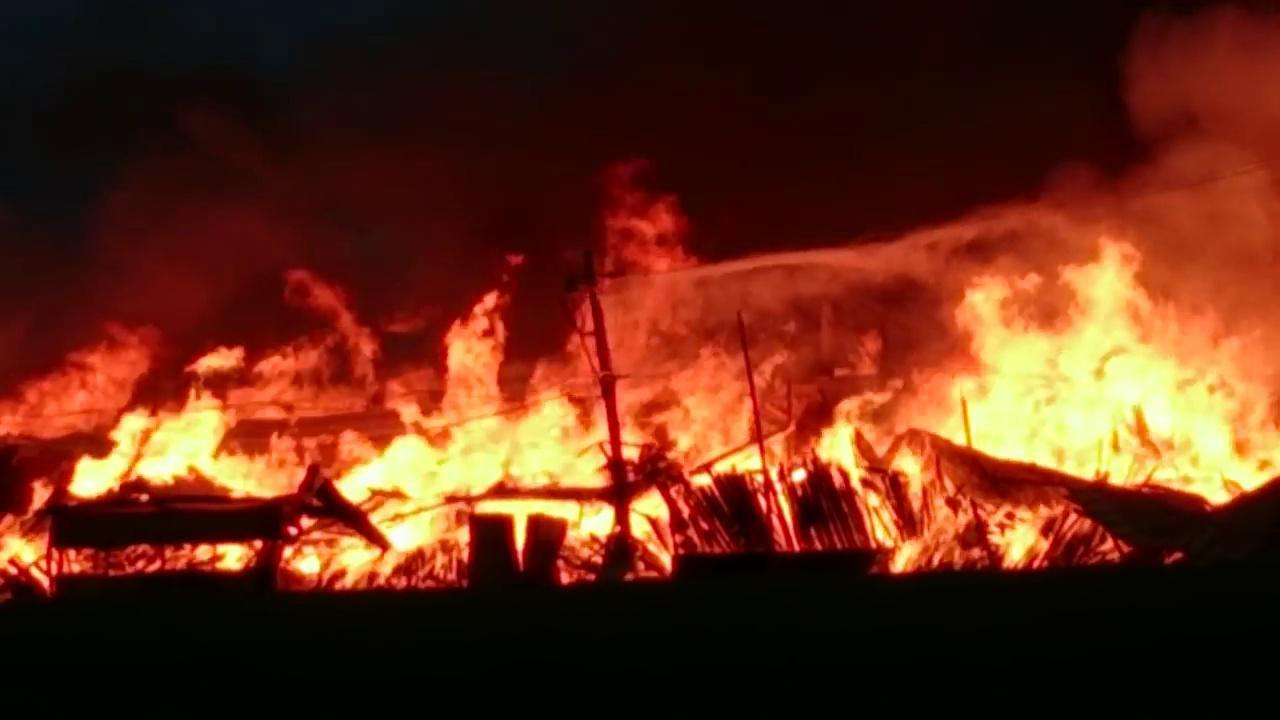Fire: (4, 163, 1279, 588)
